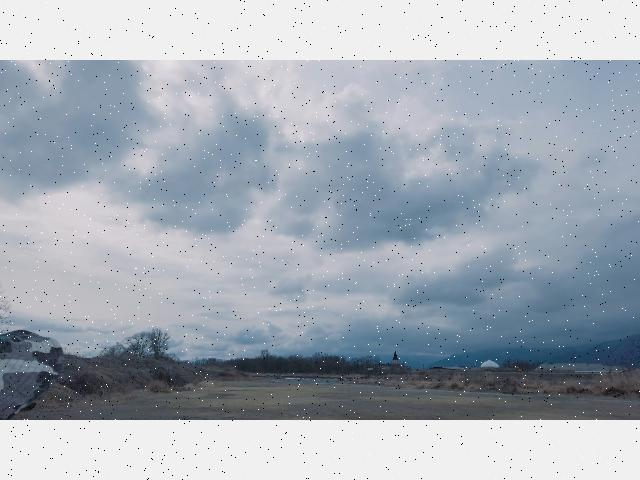Anti-Drone: (283, 259, 293, 269)
